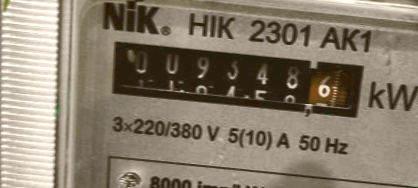0: (133, 46, 149, 73), (163, 49, 180, 73)
3: (224, 54, 240, 81)
4: (254, 57, 270, 85)
6: (315, 70, 334, 99)
8: (283, 61, 301, 90)
9: (193, 52, 210, 79)
screen: (99, 31, 374, 126)
